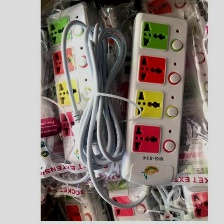three_eye_plug: (120, 9, 192, 191), (43, 0, 119, 172)
